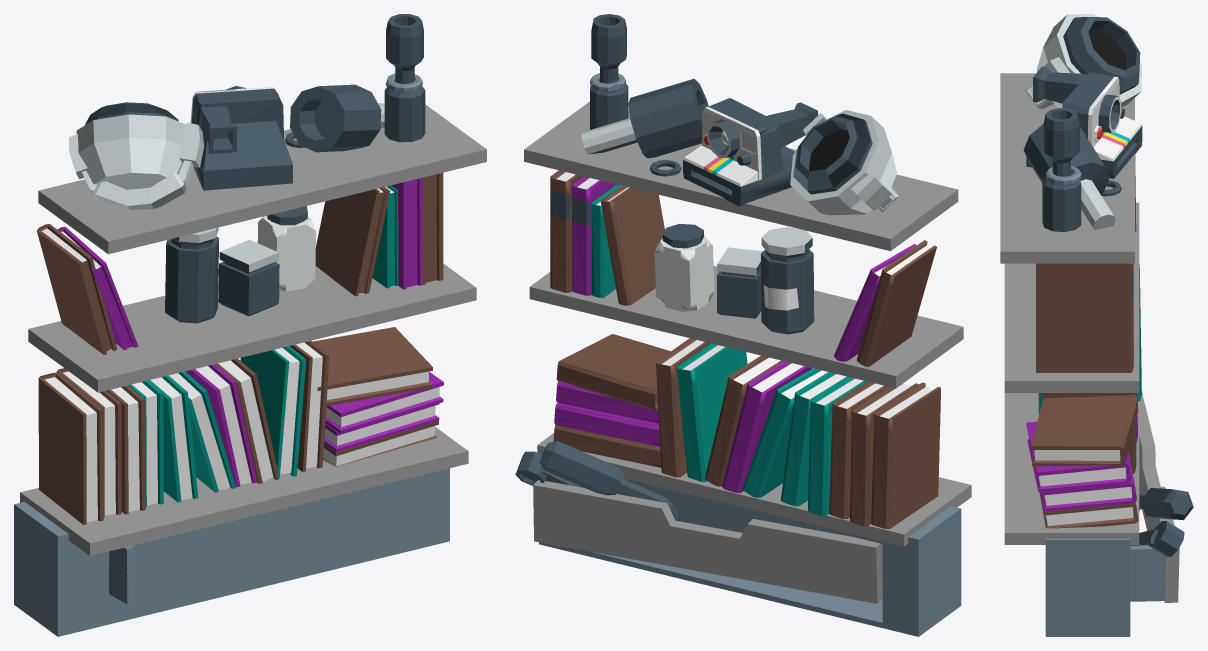
File: Shelf.glb
The picture shows the model from 3 angles, left to right: view 1: azimuth 30°, elevation 25°; view 2: azimuth 150°, elevation 25°; view 3: azimuth 270°, elevation 25°; orthographic projection. The views are drawn at different scales.
Visible parts, largest first — view 1: Shelf Clutter; view 2: Shelf Clutter; view 3: Shelf Clutter.
Boxes of the visible parts, x1=… form: Shelf Clutter: x1=14, y1=14, x2=486, y2=636; Shelf Clutter: x1=515, y1=14, x2=971, y2=636; Shelf Clutter: x1=1000, y1=14, x2=1193, y2=636.
Bounding box in the file's own units: 1.01 × 1.25 × 0.4346.
